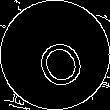O_NW: (24, 22, 86, 88)
